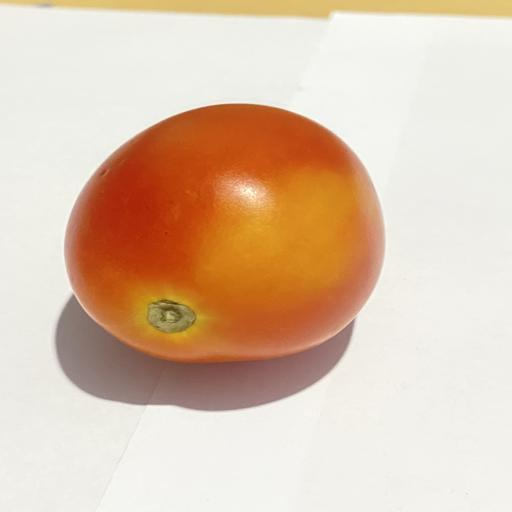ripe: (65, 104, 385, 363)
